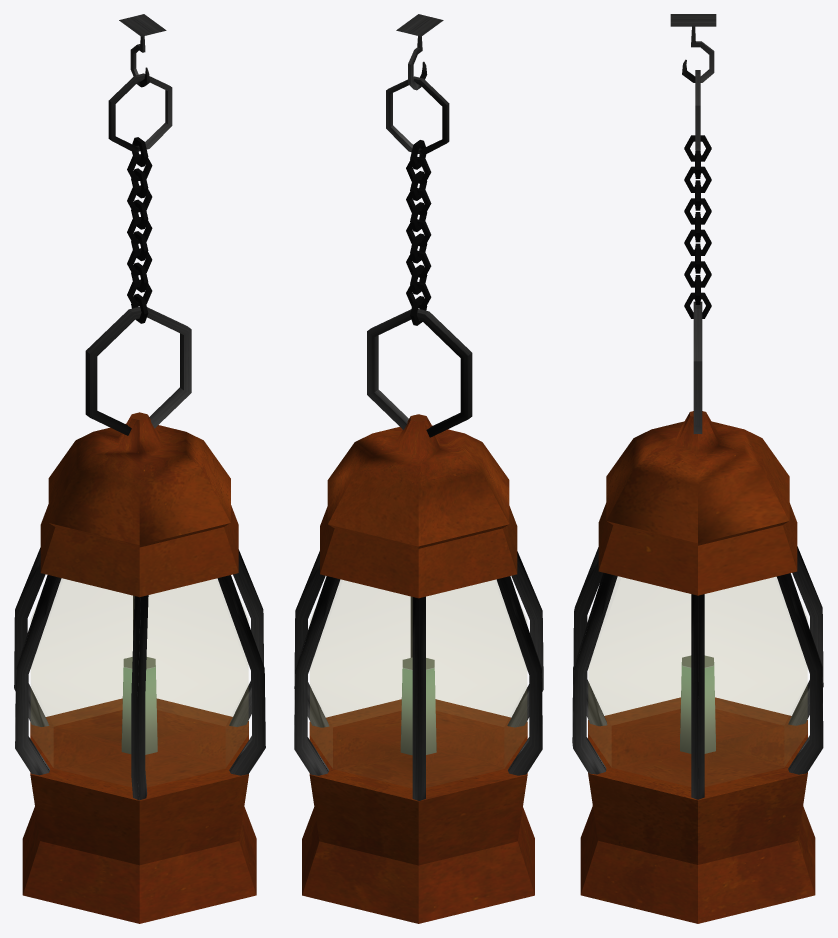
The model's file is Lantern.fbx.
The picture shows the model from 3 angles, left to right: view 1: azimuth 30°, elevation 25°; view 2: azimuth 150°, elevation 25°; view 3: azimuth 270°, elevation 25°; orthographic projection.
Visible parts, largest first — view 1: mine_car:polySurface25; view 2: mine_car:polySurface25; view 3: mine_car:polySurface25.
Boxes of the visible parts, box(x1,y1,x2,y2) form: mine_car:polySurface25: box(14, 14, 265, 923); mine_car:polySurface25: box(294, 14, 543, 923); mine_car:polySurface25: box(572, 14, 823, 923).
Bounding box in the file's own units: 4.18 × 13.5 × 3.63.
2 materials, 1 textured.
